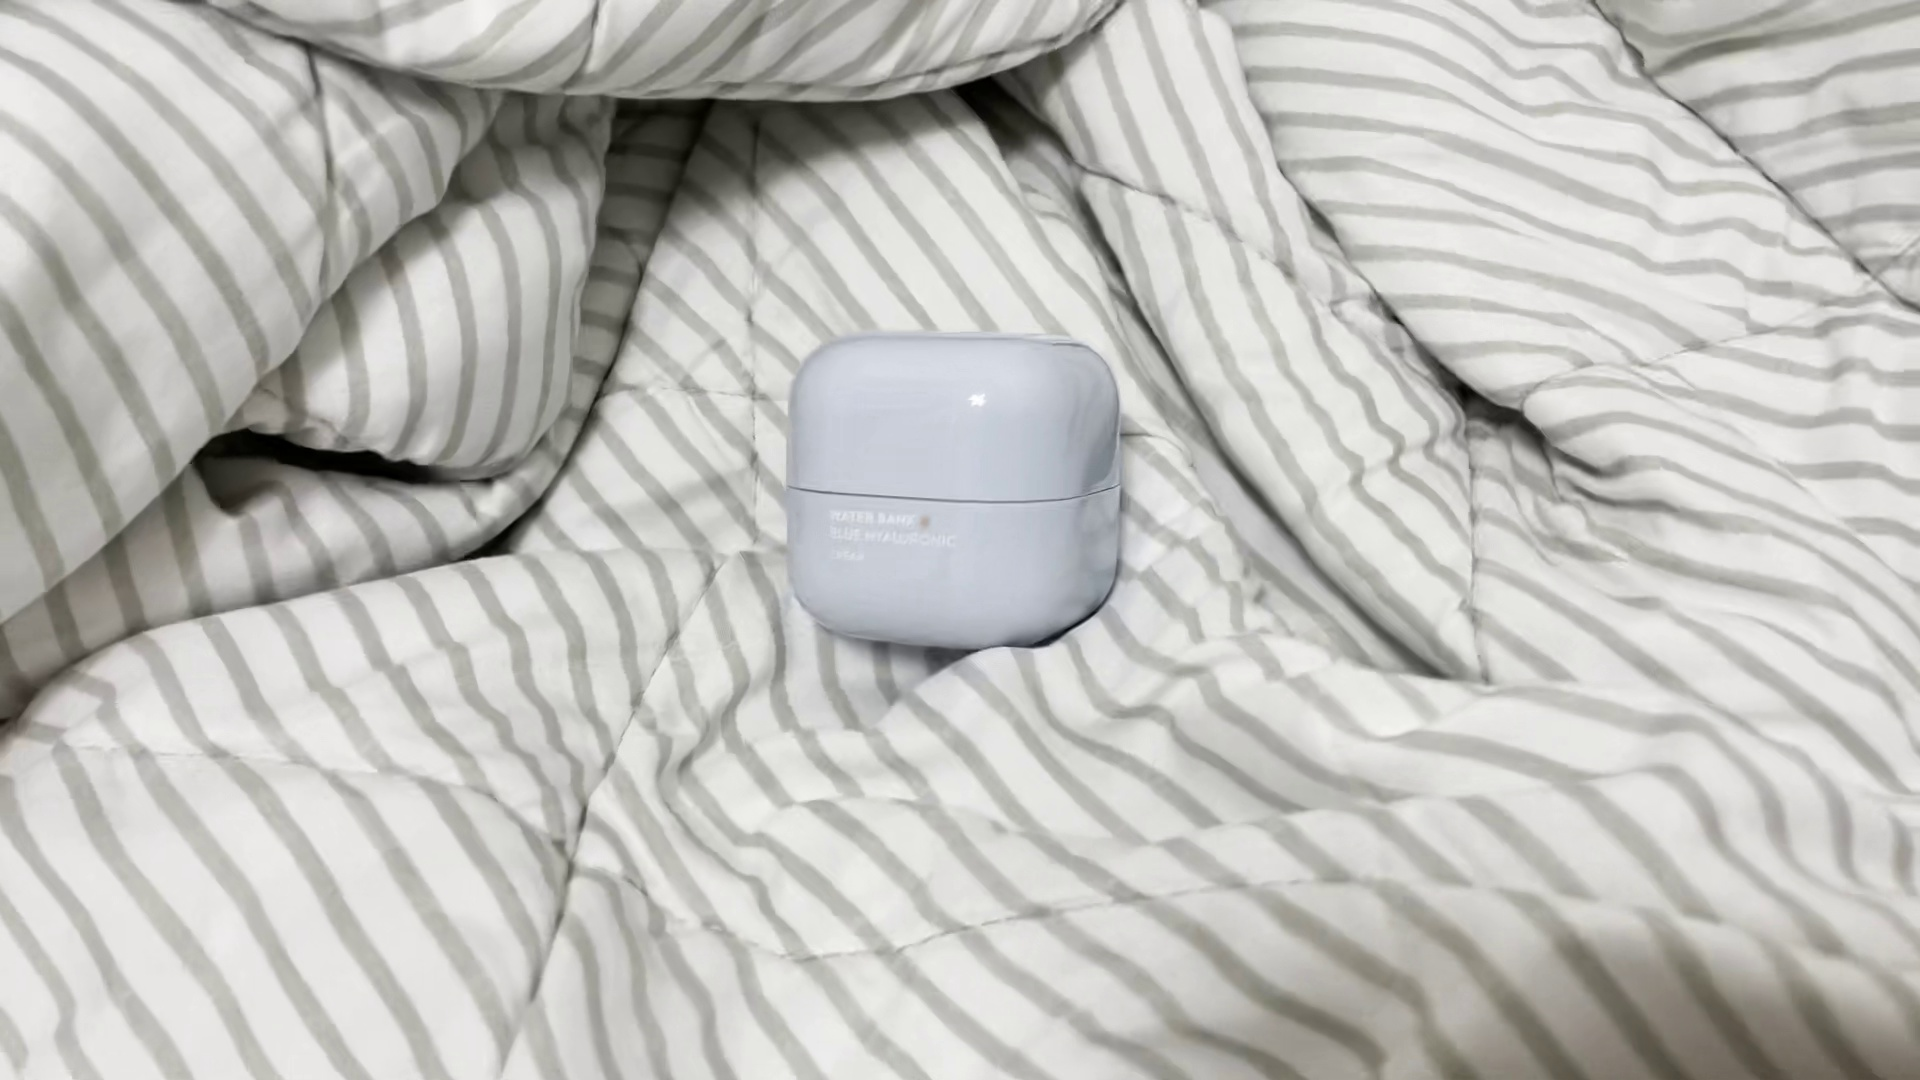cream: (793, 334, 1126, 651)
